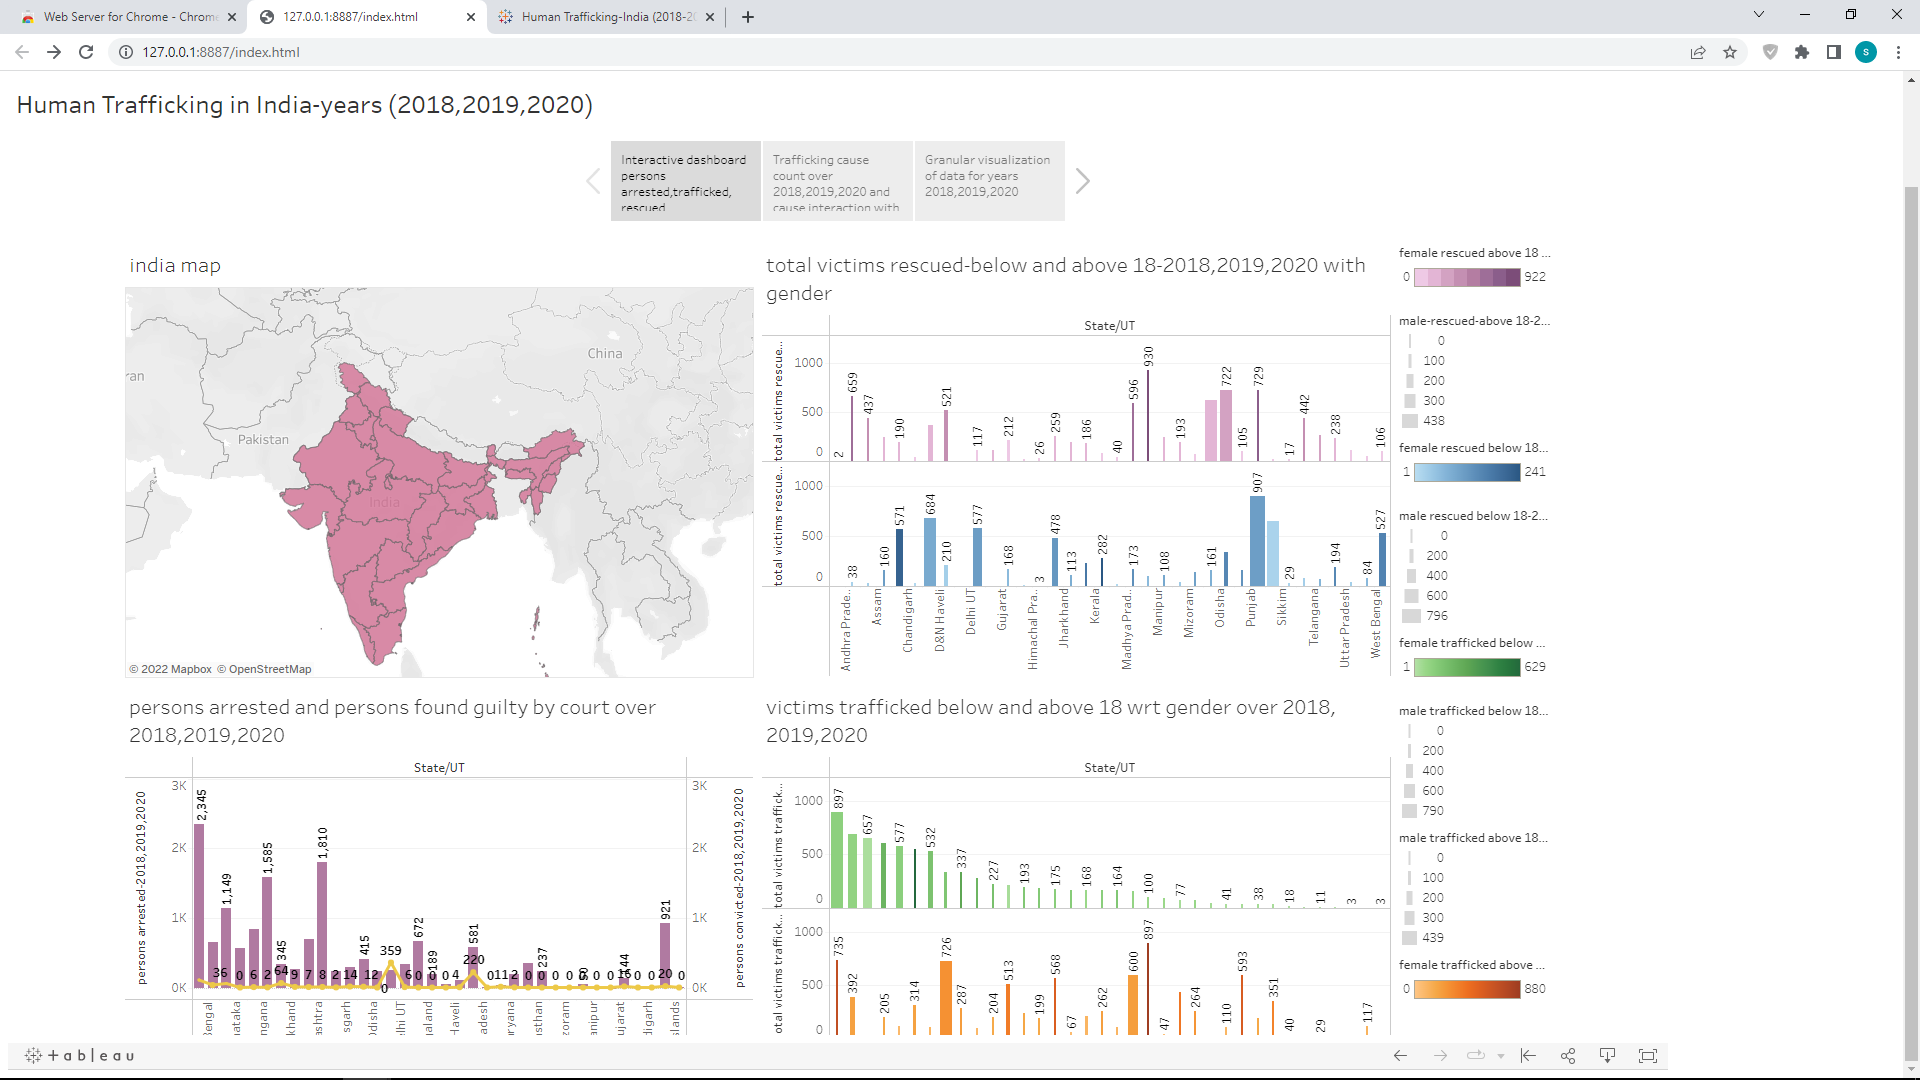

What the dashboard file says about the page in this screenshot:
{"tool":"tableau","page":{"name":"Dashboard 1","canvas":[1450,900],"ordinal":0},"visuals":[{"type":"worksheet","title":"india map","mark":"Multipolygon","box":[8,8,637,442]},{"type":"worksheet","title":"total victims rescued-below and above 18-2018,2019,2020","mark":"Bar","rows":["Calculation_831477115539431424","Calculation_831477115540340737"],"cols":["State/UT"],"box":[645,8,637,442]},{"type":"legend","title":"total victims rescued-below and above 18-2018,2019,2020","param":"[federated.0geqzg31s3aejp16zut9q1ccewkb].[sum:Calculation_831477115547746309:qk]","box":[1282,8,160,65]},{"type":"legend","title":"total victims rescued-below and above 18-2018,2019,2020","param":"[federated.0geqzg31s3aejp16zut9q1ccewkb].[sum:Calculation_831477115547131908:qk]","box":[1282,73,160,126]},{"type":"legend","title":"total victims rescued-below and above 18-2018,2019,2020","param":"[federated.0geqzg31s3aejp16zut9q1ccewkb].[sum:Calculation_831477115581632522:qk]","box":[1282,199,160,65]},{"type":"legend","title":"total victims rescued-below and above 18-2018,2019,2020","param":"[federated.0geqzg31s3aejp16zut9q1ccewkb].[sum:Calculation_831477115579691017:qk]","box":[1282,264,160,126]},{"type":"legend","title":"victims trafficked below and above 18 wrt gender over 2018, 2019,2020","param":"[federated.0geqzg31s3aejp16zut9q1ccewkb].[sum:Calculation_589127162490466304:qk]","box":[1282,390,160,65]},{"type":"worksheet","title":"persons arrested and persons found guilty by court over 2018,2019,2020","mark":"Line","rows":["Calculation_741686602210824193","Calculation_741686602211622914"],"cols":["State/UT"],"box":[8,450,637,442]},{"type":"worksheet","title":"victims trafficked below and above 18 wrt gender over 2018, 2019,2020","mark":"Automatic","rows":["Calculation_831477115541458946","Calculation_831477115542806531"],"cols":["State/UT"],"box":[645,450,637,442]},{"type":"legend","title":"victims trafficked below and above 18 wrt gender over 2018, 2019,2020","param":"[federated.0geqzg31s3aejp16zut9q1ccewkb].[sum:Calculation_589127162491199489:qk]","box":[1282,455,160,126]},{"type":"legend","title":"victims trafficked below and above 18 wrt gender over 2018, 2019,2020","param":"[federated.0geqzg31s3aejp16zut9q1ccewkb].[sum:Calculation_589127162493345794:qk]","box":[1282,581,160,126]},{"type":"legend","title":"victims trafficked below and above 18 wrt gender over 2018, 2019,2020","param":"[federated.0geqzg31s3aejp16zut9q1ccewkb].[sum:Calculation_589127162493648899:qk]","box":[1282,707,160,65]}]}

Visuals, with their boxes on the page's 1450x900 design canvas (x1, y1, x2, y2). These are canvas units, not pixel positions in the 1920x1080 screenshot, which may show the page scaled, cropped or inside an application window:
"india map" worksheet (Multipolygon marks): locate(8, 8, 645, 450)
"total victims rescued-below and above 18-2018,2019,2020" worksheet (Bar marks): locate(645, 8, 1282, 450)
"total victims rescued-below and above 18-2018,2019,2020" legend: locate(1282, 8, 1442, 73)
"total victims rescued-below and above 18-2018,2019,2020" legend: locate(1282, 73, 1442, 199)
"total victims rescued-below and above 18-2018,2019,2020" legend: locate(1282, 199, 1442, 264)
"total victims rescued-below and above 18-2018,2019,2020" legend: locate(1282, 264, 1442, 390)
"victims trafficked below and above 18 wrt gender over 2018, 2019,2020" legend: locate(1282, 390, 1442, 455)
"persons arrested and persons found guilty by court over 2018,2019,2020" worksheet (Line marks): locate(8, 450, 645, 892)
"victims trafficked below and above 18 wrt gender over 2018, 2019,2020" worksheet: locate(645, 450, 1282, 892)
"victims trafficked below and above 18 wrt gender over 2018, 2019,2020" legend: locate(1282, 455, 1442, 581)
"victims trafficked below and above 18 wrt gender over 2018, 2019,2020" legend: locate(1282, 581, 1442, 707)
"victims trafficked below and above 18 wrt gender over 2018, 2019,2020" legend: locate(1282, 707, 1442, 772)
